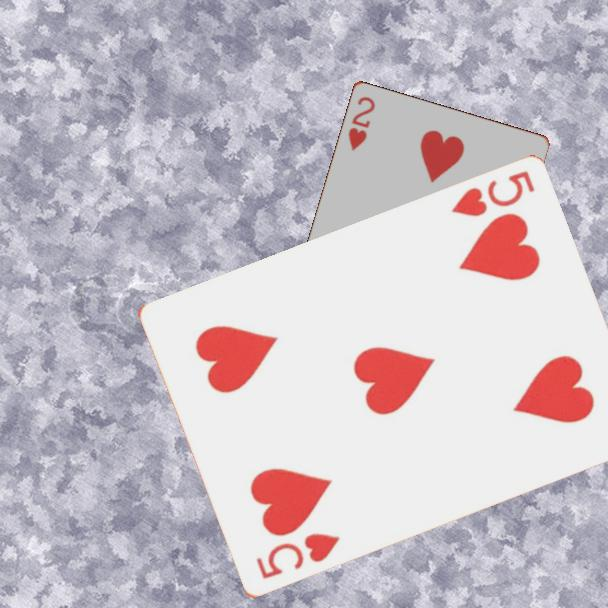h02: (344, 92, 378, 154)
h05: (447, 167, 538, 221), (252, 530, 343, 583)
